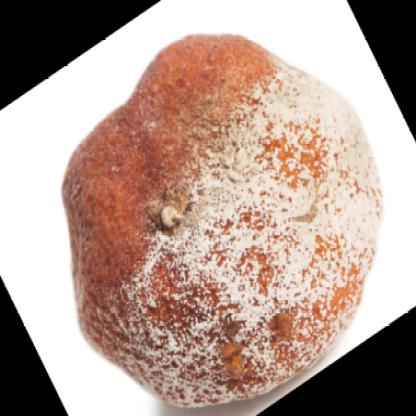rotten: (61, 35, 381, 410)
